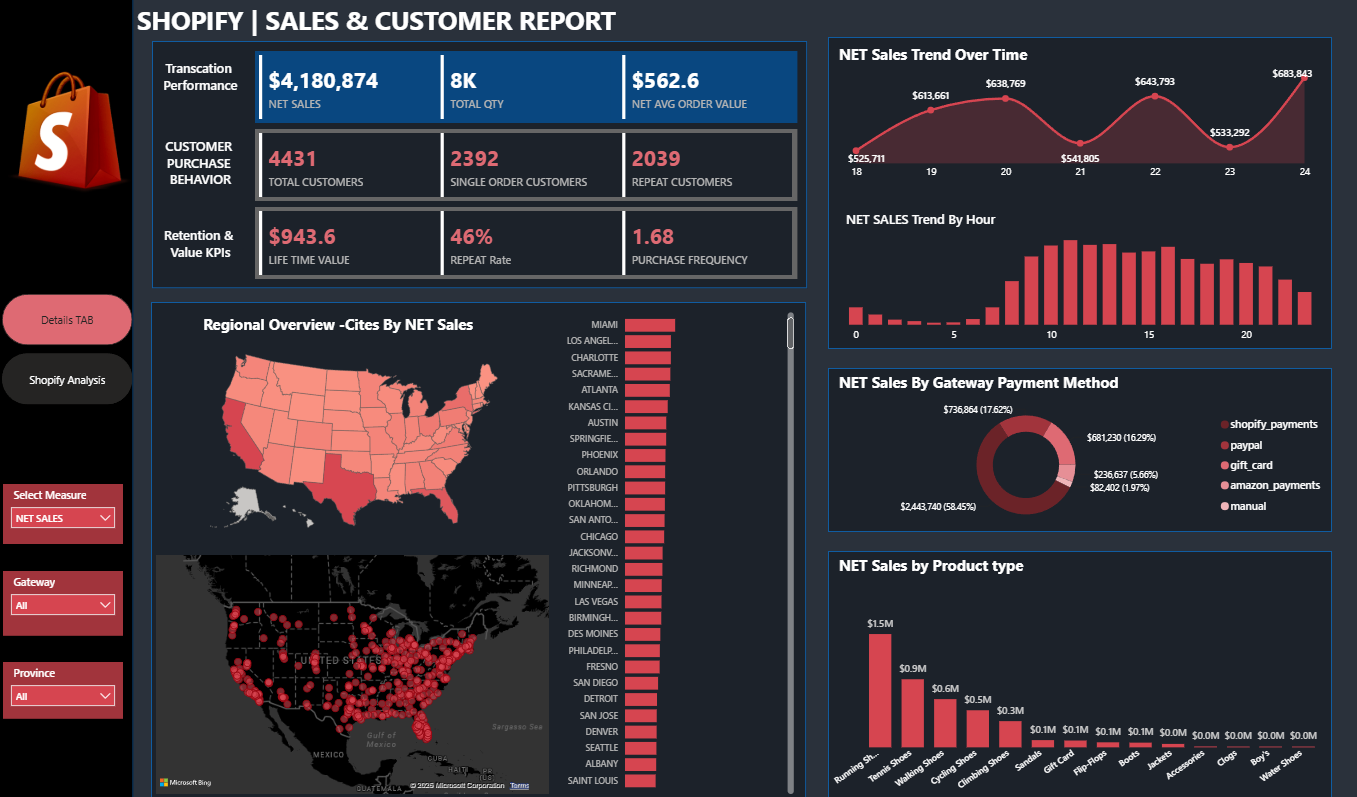

Layout of this report page (visuals, bound fields, positions):
{"tool":"powerbi","page":{"name":"Shopify Analysis","canvas":[1700,1000],"ordinal":1},"visuals":[{"type":"shape","box":[0,0,169.3,1000],"z":0},{"type":"textbox","box":[169.3,0,757.9,53.1],"z":1000},{"type":"shape","box":[192.9,53.1,818.9,309.1],"z":2000},{"type":"card","fields":{"Values":["shopify_sales.TRANSCATION PERF"]},"box":[193.3,56.7,118.3,83.3],"z":3000},{"type":"cardVisual","fields":{"Data":["shopify_sales.NET SALES","shopify_sales.TOTAL QTY","shopify_sales.NET AVG ORDER VALUE"]},"box":[321.7,66.7,678.3,90],"z":4000},{"type":"card","fields":{"Values":["shopify_sales.CUSTOMER PURCHASE BEHAVIOR"]},"box":[193.3,160.8,118.3,83.3],"z":5000},{"type":"cardVisual","fields":{"Data":["shopify_sales.LIFE TIME VALUE","shopify_sales.REPEAT Rate","shopify_sales.PURCHASE FREQUENCY"]},"box":[321.1,261,677.8,90.2],"z":6000},{"type":"cardVisual","fields":{"Data":["shopify_sales.TOTAL CUSTOMERS","shopify_sales.SINGLE ORDER CUSTOMERS","shopify_sales.REPEAT CUSTOMERS"]},"box":[321.7,164.2,678.3,90],"z":7000},{"type":"card","fields":{"Values":["shopify_sales.RETENTION & VALUE KPI"]},"box":[193.3,265,118.3,83.3],"z":8000},{"type":"shape","box":[190.9,379.9,818.9,620.1],"z":9000},{"type":"shapeMap","fields":{"Value":["shopify_sales.NET SALES"],"Category":["shopify_sales.Billing Address Province"]},"box":[196.2,428.8,497.5,250],"z":10000},{"type":"slicer","fields":{"Values":["Select Measure .Select Measure "]},"box":[5.9,607.7,149.6,74.8],"z":11000},{"type":"map","fields":{"Category":["shopify_sales.Location"]},"box":[192.5,691.2,501.2,308.8],"z":12000},{"type":"clusteredBarChart","fields":{"Y":["shopify_sales.NET SALES"],"Category":["shopify_sales.CITY"]},"box":[693.8,380,306.2,620],"z":13000},{"type":"shape","box":[1037.4,49.2,629.9,389.8],"z":14000},{"type":"areaChart","fields":{"Y":["shopify_sales.NET SALES"],"Category":["shopify_sales.Invoice Date.Variation.Date Hierarchy.Day"]},"box":[1057.1,76.8,590.6,159.4],"z":15000},{"type":"columnChart","fields":{"Y":["shopify_sales.NET SALES"],"Category":["shopify_sales.Hour"]},"box":[1057.1,261.8,590.6,177.2],"z":16000},{"type":"card","fields":{"Values":["shopify_sales.Trend By Hour"]},"box":[1045.9,261.9,218.5,33.5],"z":17000},{"type":"shape","box":[1037.4,462.6,629.9,205],"z":18000},{"type":"donutChart","fields":{"Y":["shopify_sales.NET SALES"],"Category":["shopify_sales.Gateway"]},"box":[1037.4,500,629.9,167.3],"z":19000},{"type":"shape","box":[1037.4,690.9,629.9,309.1],"z":20000},{"type":"columnChart","fields":{"Y":["shopify_sales.NET SALES"],"Category":["shopify_sales.Product Type"]},"box":[1037.4,730.3,629.9,269.7],"z":21000},{"type":"slicer","fields":{"Values":["shopify_sales.Gateway"]},"box":[5.9,715.9,149.6,80.7],"z":22000},{"type":"slicer","fields":{"Values":["shopify_sales.Billing Address Province"]},"box":[5.9,830.1,149.6,70.9],"z":23000},{"type":"pageNavigator","box":[5.5,370.3,164,138],"z":24000},{"type":"textbox","box":[1046.4,52.6,248.5,35.5],"z":25000},{"type":"textbox","box":[156.2,390,537.5,48.8],"z":26000},{"type":"textbox","box":[1046.4,691.5,248.5,39.2],"z":27000},{"type":"textbox","box":[1046.4,462.6,361.1,37.9],"z":28000},{"type":"image","box":[5.7,82.9,170,171.4],"z":29000}]}

Visuals, with their boxes on the page's 1700x1000 design canvas (x1, y1, x2, y2). These are canvas units, not pixel positions in the 1357x797 screenshot, which may show the page scaled, cropped or inside an application window:
shape: BBox(0, 0, 169, 1000)
textbox: BBox(169, 0, 927, 53)
shape: BBox(193, 53, 1012, 362)
card - shopify_sales.TRANSCATION PERF: BBox(193, 57, 312, 140)
cardVisual - shopify_sales.NET SALES x shopify_sales.TOTAL QTY: BBox(322, 67, 1000, 157)
card - shopify_sales.CUSTOMER PURCHASE BEHAVIOR: BBox(193, 161, 312, 244)
cardVisual - shopify_sales.LIFE TIME VALUE x shopify_sales.REPEAT Rate: BBox(321, 261, 999, 351)
cardVisual - shopify_sales.TOTAL CUSTOMERS x shopify_sales.SINGLE ORDER CUSTOMERS: BBox(322, 164, 1000, 254)
card - shopify_sales.RETENTION & VALUE KPI: BBox(193, 265, 312, 348)
shape: BBox(191, 380, 1010, 1000)
shapeMap - shopify_sales.NET SALES x shopify_sales.Billing Address Province: BBox(196, 429, 694, 679)
slicer - Select Measure .Select Measure : BBox(6, 608, 156, 682)
map - shopify_sales.Location: BBox(192, 691, 694, 1000)
clusteredBarChart - shopify_sales.NET SALES x shopify_sales.CITY: BBox(694, 380, 1000, 1000)
shape: BBox(1037, 49, 1667, 439)
areaChart - shopify_sales.NET SALES x shopify_sales.Invoice Date.Variation.Date Hierarchy.Day: BBox(1057, 77, 1648, 236)
columnChart - shopify_sales.NET SALES x shopify_sales.Hour: BBox(1057, 262, 1648, 439)
card - shopify_sales.Trend By Hour: BBox(1046, 262, 1264, 295)
shape: BBox(1037, 463, 1667, 668)
donutChart - shopify_sales.NET SALES x shopify_sales.Gateway: BBox(1037, 500, 1667, 667)
shape: BBox(1037, 691, 1667, 1000)
columnChart - shopify_sales.NET SALES x shopify_sales.Product Type: BBox(1037, 730, 1667, 1000)
slicer - shopify_sales.Gateway: BBox(6, 716, 156, 797)
slicer - shopify_sales.Billing Address Province: BBox(6, 830, 156, 901)
pageNavigator: BBox(6, 370, 170, 508)
textbox: BBox(1046, 53, 1295, 88)
textbox: BBox(156, 390, 694, 439)
textbox: BBox(1046, 692, 1295, 731)
textbox: BBox(1046, 463, 1408, 500)
image: BBox(6, 83, 176, 254)
